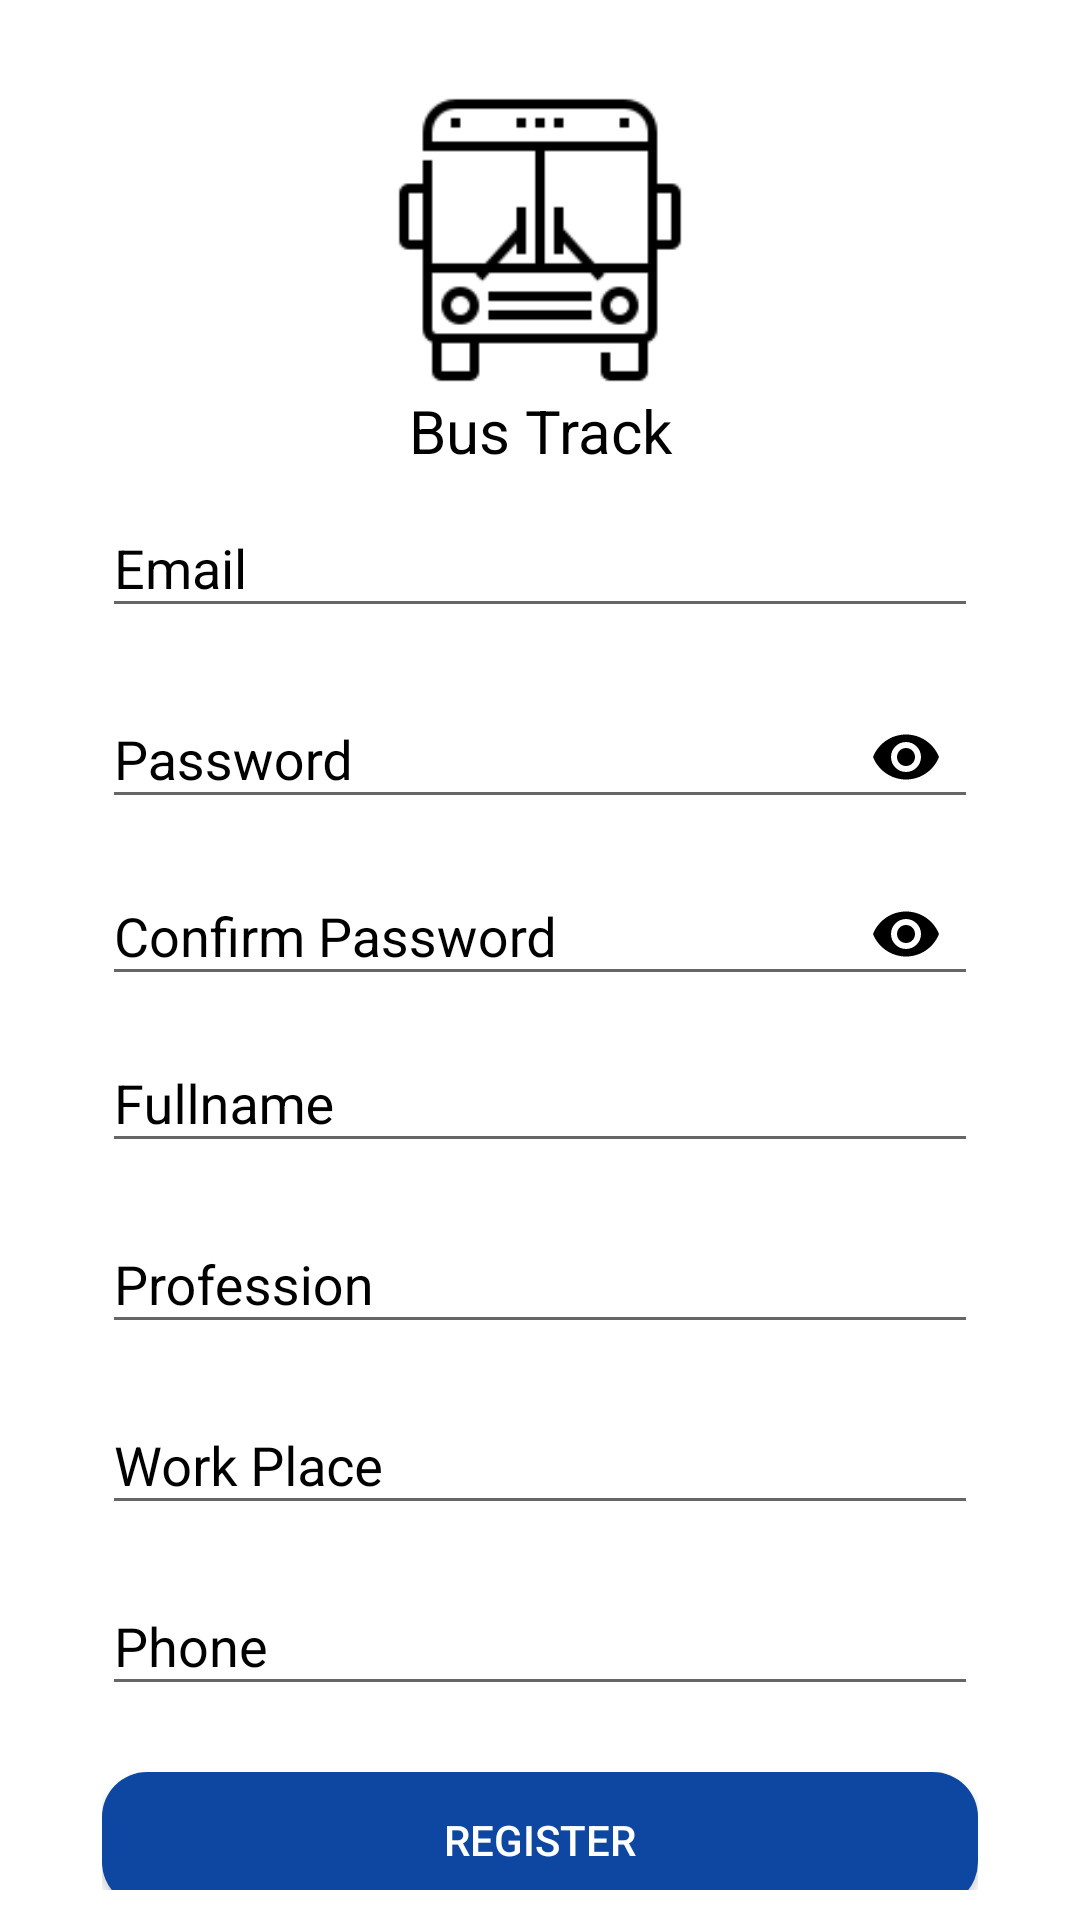

Icons on this 1080×1920 Android screen, each with its box as [left=x1, top=y1, right=x2, bottom=y2]:
transport: [left=398, top=98, right=682, bottom=382]
